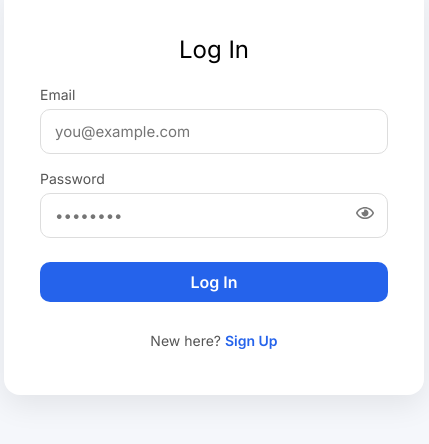
Test: показує помилку якщо сервер повертає помилку
This screenshot has width=429, height=444.
In the field with placeholder "you@example.com": (214, 132) [40,109,388,154], type "test@test.com"
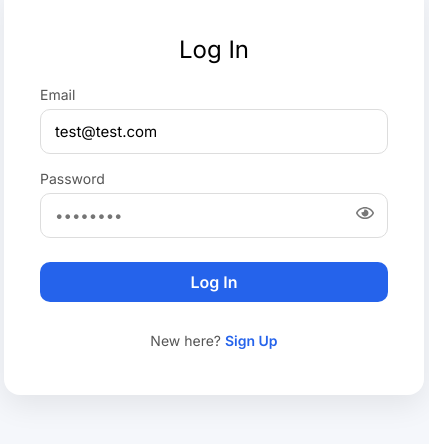
In the password field with placeholder "••••••••": (214, 216) [40,193,388,238], type "wrongpass"
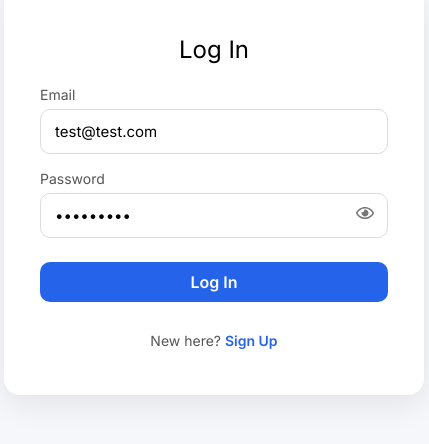
Click the button "Log In": (214, 282) [40,262,388,302]
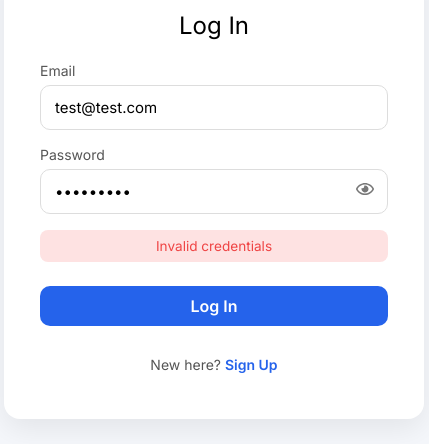
Expected: the text "Invalid credentials" is shown, [40,230,388,262]
